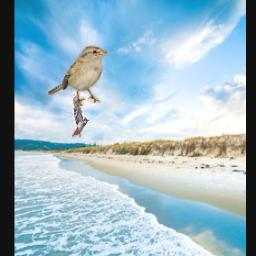Sparrow: (47, 45, 108, 107)
Woodpecker: (71, 91, 89, 138)
